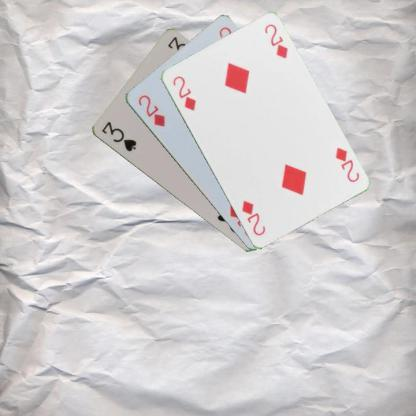2d: (135, 92, 167, 128), (332, 144, 360, 184), (169, 73, 197, 112)
3s: (98, 119, 138, 153)
